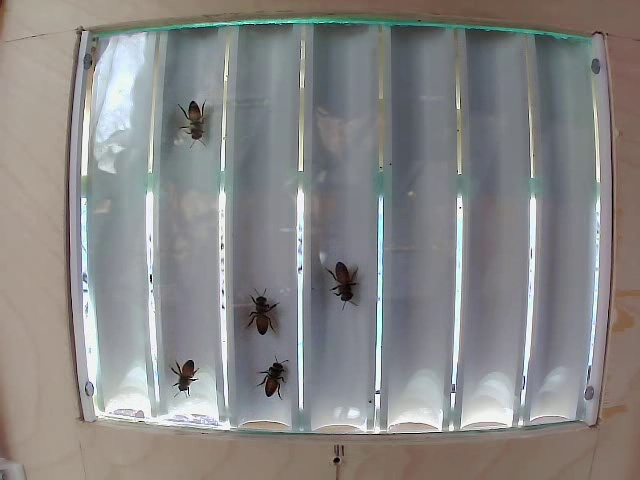bee: (320, 256, 376, 313), (253, 290, 290, 347), (152, 356, 203, 395), (180, 101, 209, 147), (260, 359, 289, 396)
